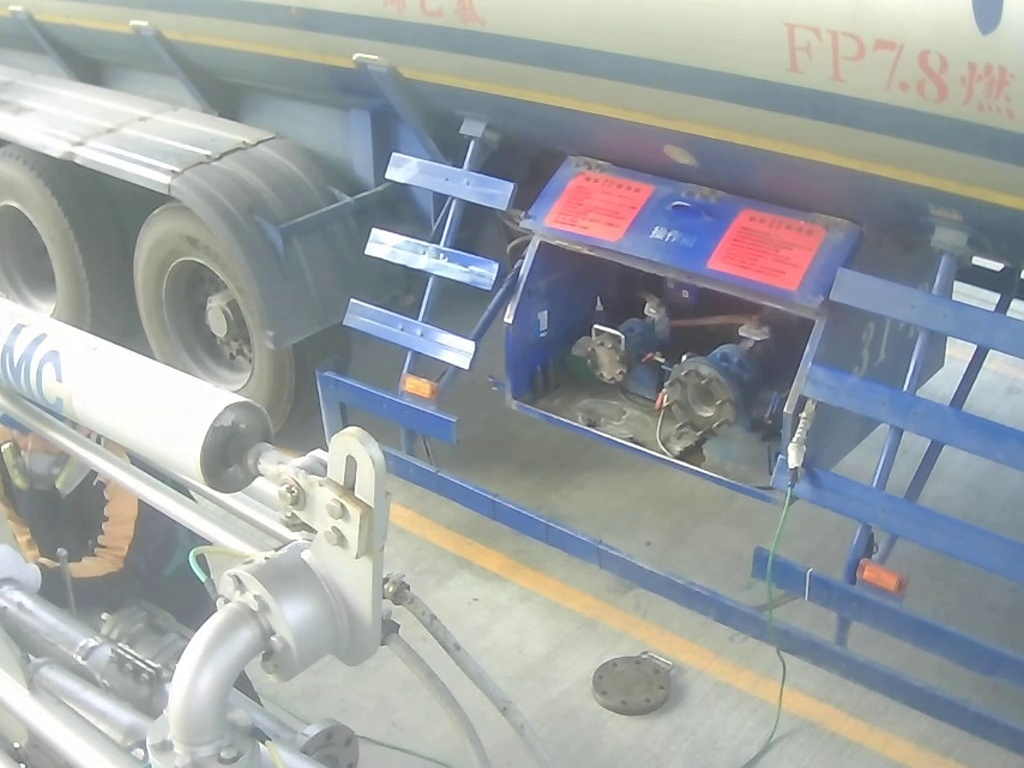helmet: (1, 331, 105, 499)
mask: (6, 443, 94, 493)
person: (0, 315, 291, 767)
